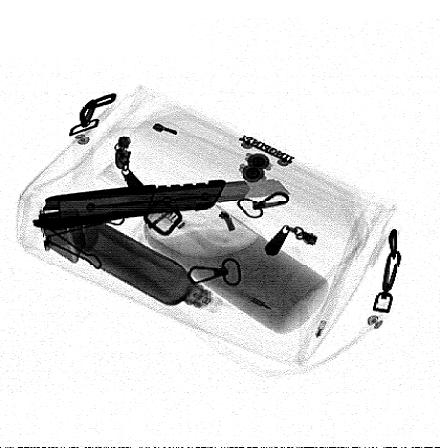Knife: (31, 178, 292, 231)
